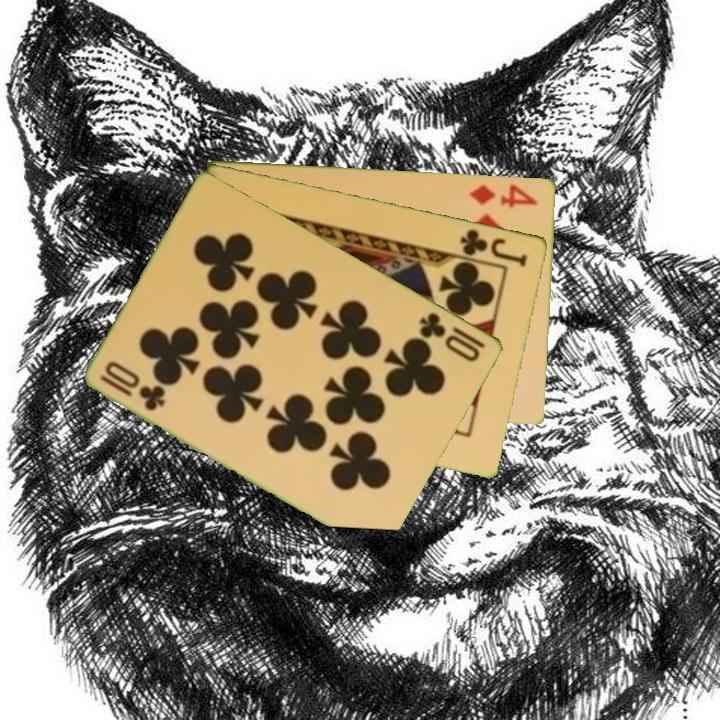10c: (416, 308, 489, 365), (96, 357, 169, 414)
4d: (467, 180, 542, 211)
Jc: (457, 225, 531, 269)
